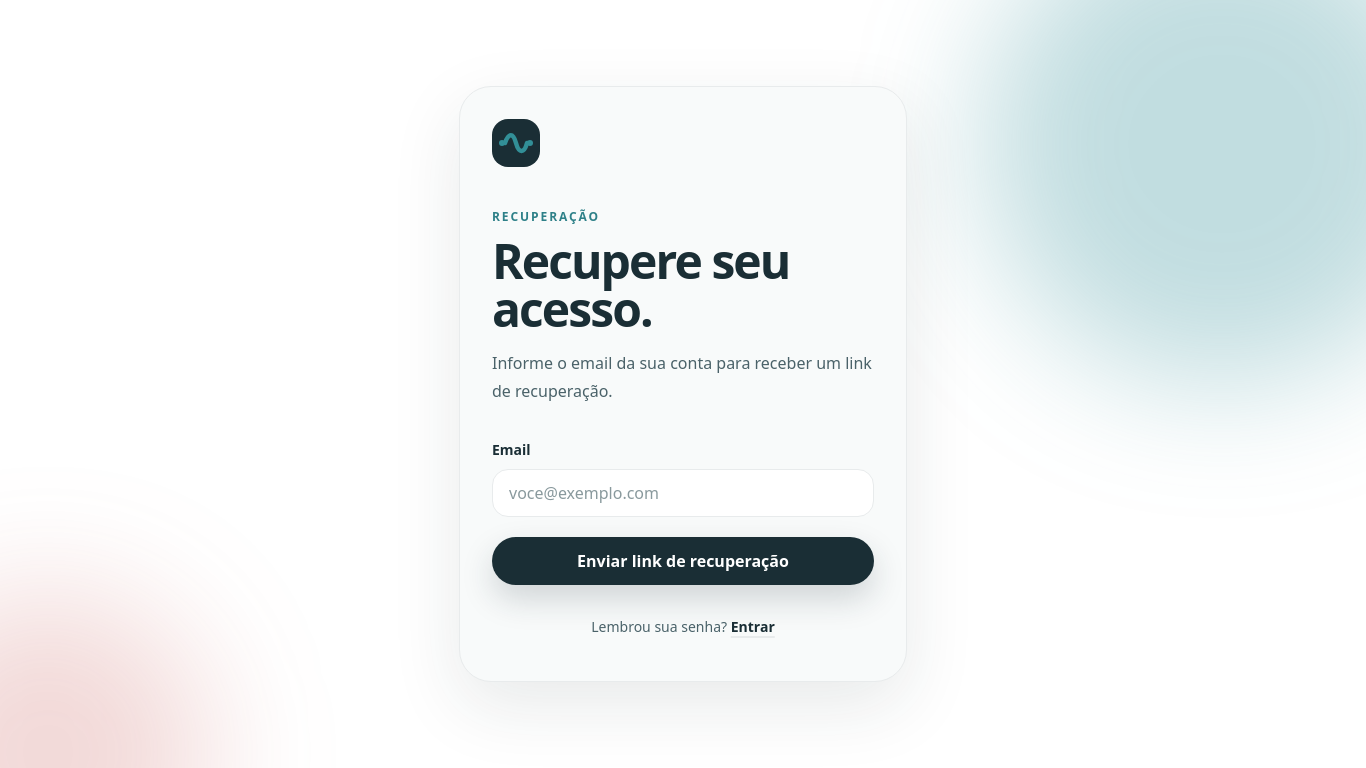
Test: ForgotPasswordPage › should map rate limits without exposing the provider message
Type " user@example.com " into the field labelled "Email".
click(683, 493); type(" user@example.com ")  # box [492,469,874,517]
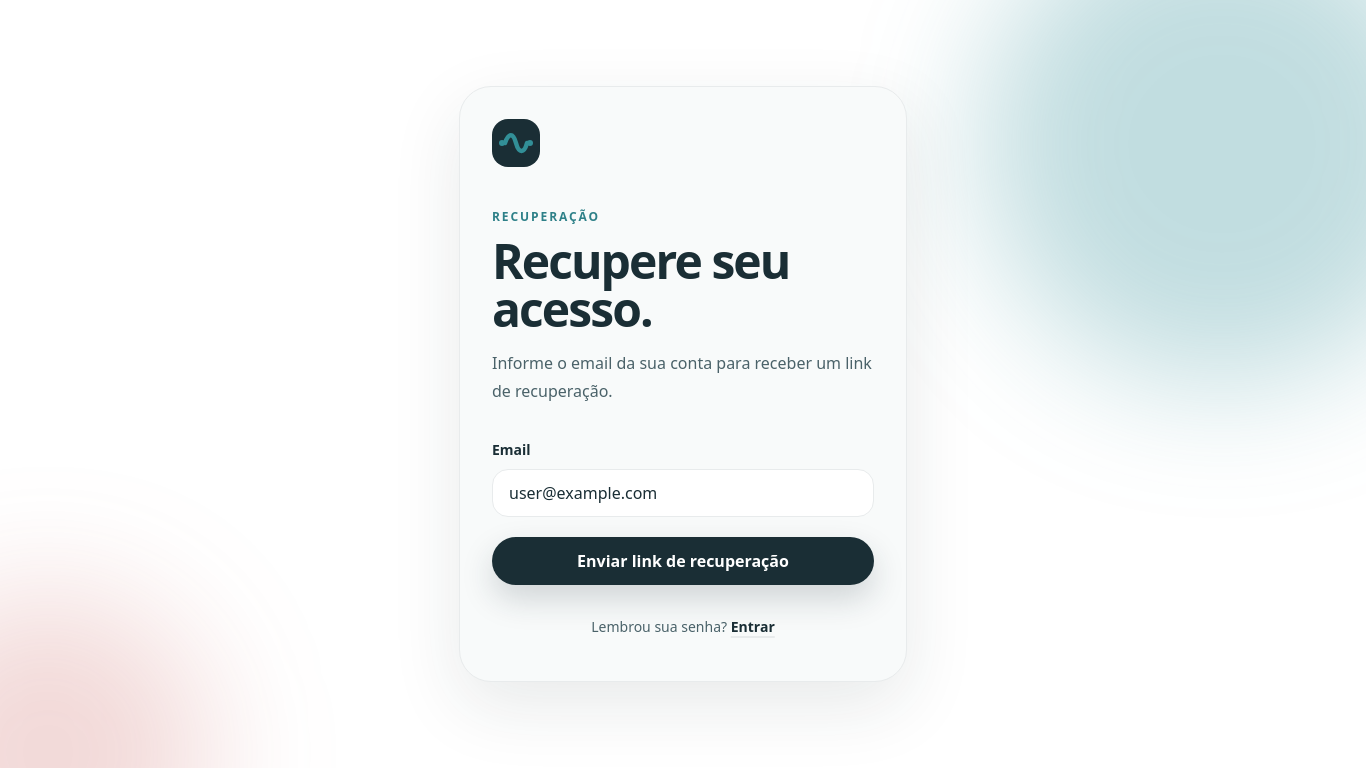
Click the button "Enviar link de recuperação".
click(683, 561)  # box [492,537,874,585]
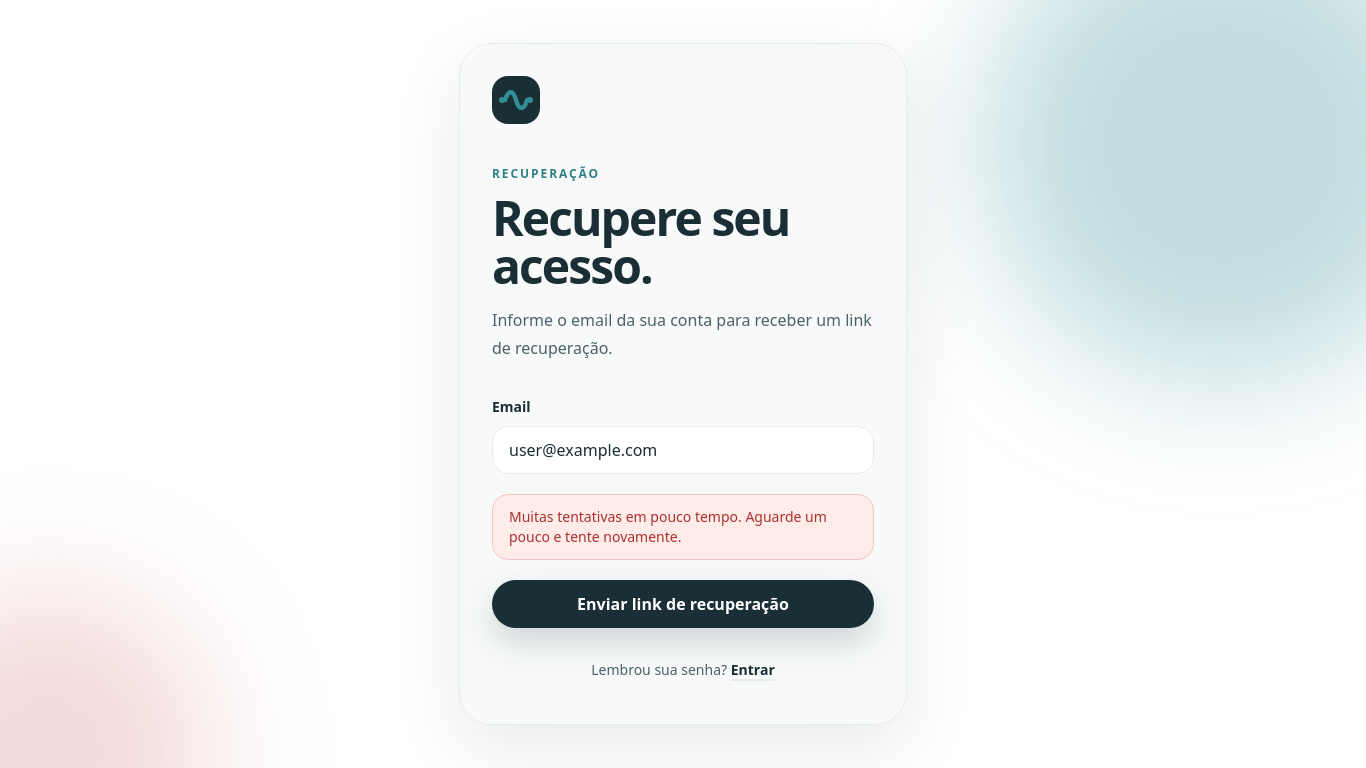
Expected: the message reads "Muitas tentativas em pouco tempo. Aguarde um pouco e tente novamente.", [509,507,827,546]
